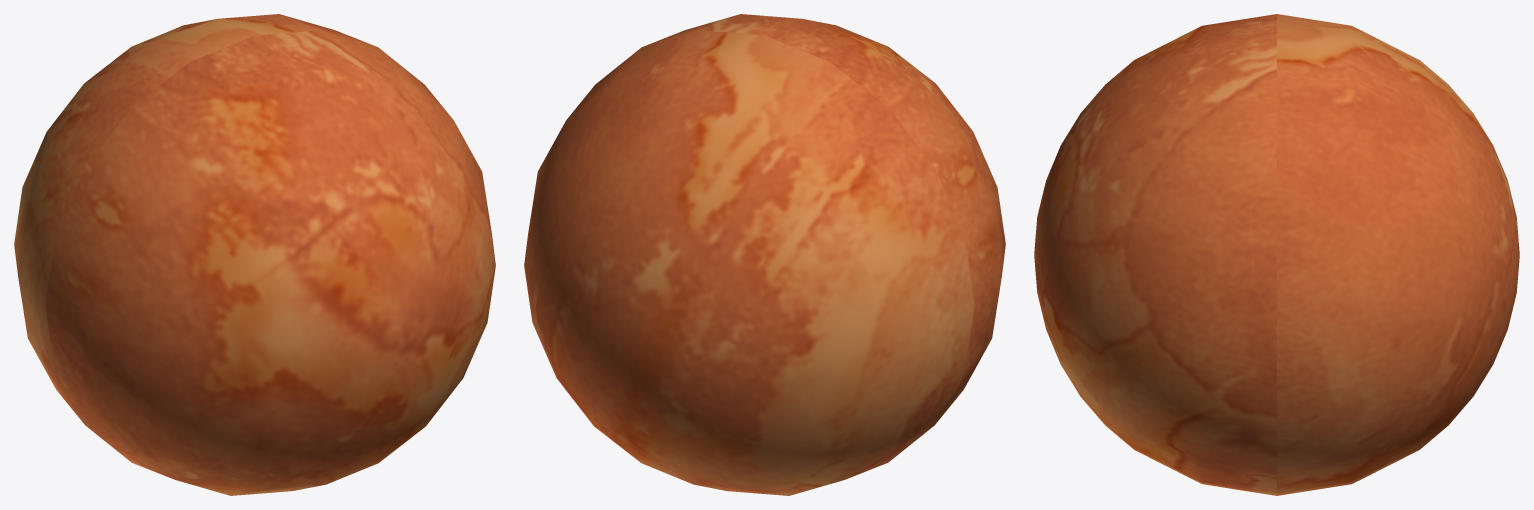
Rendered from Marte.glb.
3 renders of one model, left to right at view 1: azimuth 30°, elevation 25°; view 2: azimuth 150°, elevation 25°; view 3: azimuth 270°, elevation 25°, orthographic.
Parts seen in each view (by area): view 1: Planeta; view 2: Planeta; view 3: Planeta.
Boxes of the visible parts, <box> form: Planeta: <box>14,14,495,495</box>; Planeta: <box>524,14,1005,495</box>; Planeta: <box>1034,14,1519,495</box>.
Size of the model in its own units: 0.1129 by 0.1129 by 0.1129.
1 material, 1 textured.
